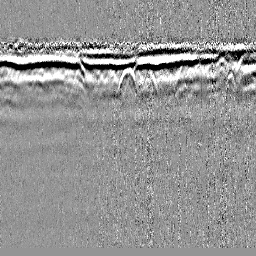cavity: (115, 66, 137, 95)
